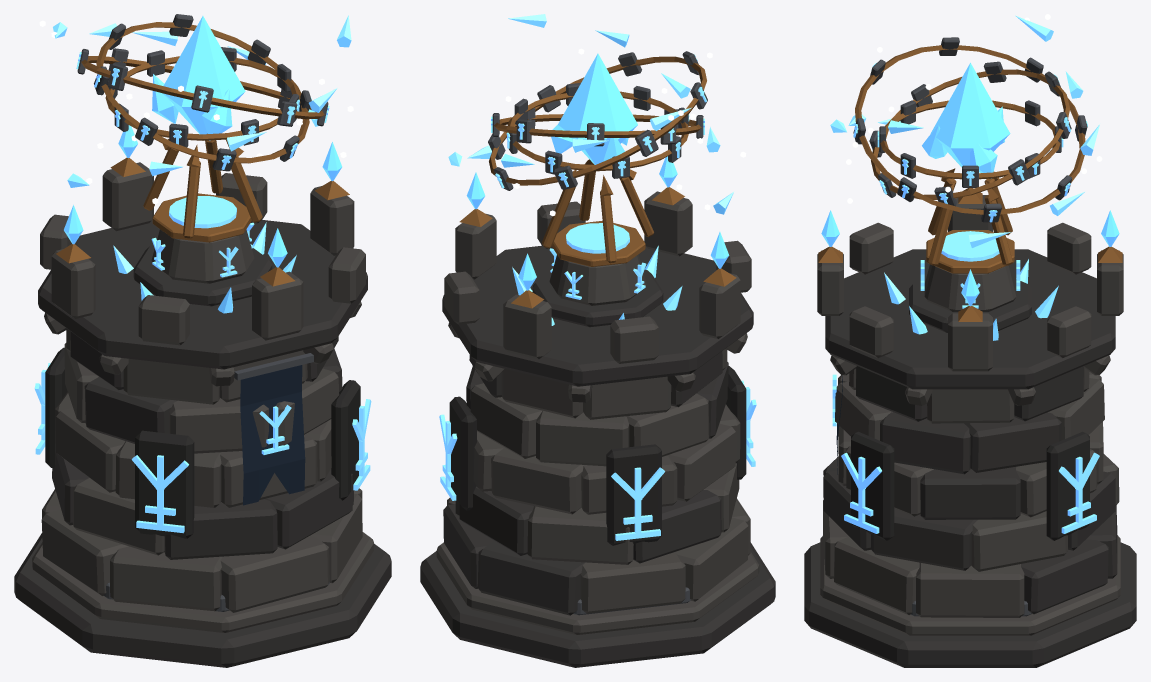
Rendered from rune_tower_froststurm.glb.
The picture shows the model from 3 angles, left to right: view 1: azimuth 30°, elevation 25°; view 2: azimuth 150°, elevation 25°; view 3: azimuth 270°, elevation 25°; orthographic projection. The views are drawn at different scales.
Parts seen in each view (by area): view 1: Platform, Plinth, Plinth_Step, Banner, Block_0_5, Block_0_6, Block_1_5, RuneStone_3, Crystal_Main, Block_3_4, Block_3_5, Block_0_4 (+35 smaller); view 2: Platform, Plinth, Plinth_Step, Block_0_2, Block_0_3, Block_1_2, Block_2_2, Block_3_2, RuneStone_2, Crystal_Main, Block_1_3, Block_3_3 (+34 smaller); view 3: Platform, Plinth, Plinth_Step, Block_0_0, Block_2_0, Block_1_7, Block_0_1, Crystal_Main, Block_3_0, Block_0_7, Block_3_7, Block_1_0 (+34 smaller).
Boxes of the visible parts, x1,y1,x2,y2 form: Platform: (38, 220, 367, 369); Plinth: (14, 533, 391, 667); Plinth_Step: (32, 532, 373, 632); Banner: (240, 365, 305, 505); Block_0_5: (110, 546, 222, 611); Block_0_6: (220, 536, 329, 612); Block_1_5: (164, 499, 277, 559); RuneStone_3: (135, 430, 194, 538); Crystal_Main: (162, 16, 245, 134); Block_3_4: (84, 377, 177, 443); Block_3_5: (169, 398, 268, 453); Block_0_4: (41, 509, 128, 595); Platform: (442, 245, 753, 386); Plinth: (420, 542, 775, 667); Plinth_Step: (436, 542, 759, 634); Block_0_2: (477, 541, 585, 615); Block_0_3: (580, 552, 685, 613); Block_1_2: (527, 506, 633, 564); Block_2_2: (491, 447, 583, 514); Block_3_2: (536, 411, 629, 466); RuneStone_2: (606, 444, 661, 545); Crystal_Main: (558, 53, 637, 164); Block_1_3: (633, 490, 721, 563); Block_3_3: (626, 393, 709, 456); Platform: (825, 249, 1115, 389); Plinth: (804, 542, 1136, 667); Plinth_Step: (820, 535, 1120, 635); Block_0_0: (916, 562, 1024, 617); Block_2_0: (920, 467, 1020, 519); Block_1_7: (871, 509, 977, 570); Block_0_1: (1021, 539, 1108, 614); Crystal_Main: (930, 62, 1010, 167); Block_3_0: (964, 412, 1061, 472); Block_0_7: (834, 536, 919, 614); Block_3_7: (880, 412, 970, 474); Block_1_0: (971, 511, 1068, 571).
Bounding box in the file's own units: 2.49 × 4.46 × 2.49.
